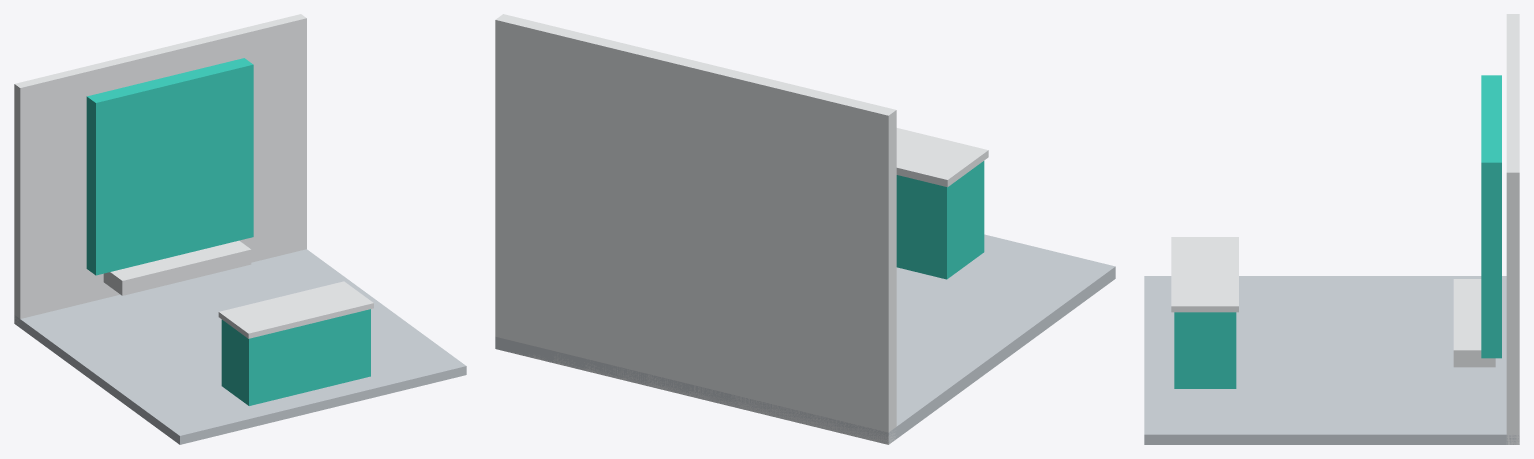
3 renders of one model, left to right at view 1: azimuth 30°, elevation 25°; view 2: azimuth 150°, elevation 25°; view 3: azimuth 270°, elevation 25°, orthographic. The views are drawn at different scales.
Parts seen in each view (by area): view 1: Exhibition Booth Concept; view 2: Exhibition Booth Concept; view 3: Exhibition Booth Concept.
Part boxes in pixels (x1=…): Exhibition Booth Concept: x1=14, y1=14, x2=466, y2=444; Exhibition Booth Concept: x1=495, y1=14, x2=1115, y2=444; Exhibition Booth Concept: x1=1144, y1=14, x2=1519, y2=444.
Bounding box in the file's own units: 4 × 3.2 × 4.
